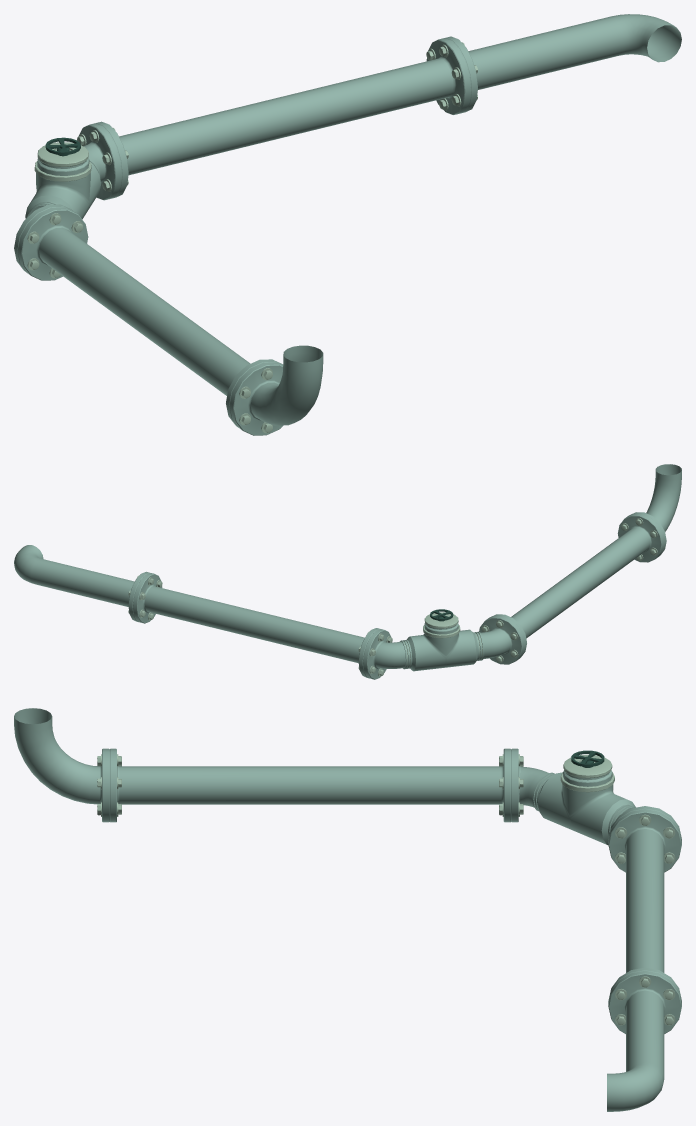
File: PipeComplexLarge_A3_11.fbx
3 renders of one model, top to bottom at view 1: azimuth 30°, elevation 25°; view 2: azimuth 150°, elevation 25°; view 3: azimuth 270°, elevation 25°, orthographic. The views are drawn at different scales.
Parts seen in each view (by area): view 1: PipeComplexLarge_A3_11.001; view 2: PipeComplexLarge_A3_11.001; view 3: PipeComplexLarge_A3_11.001.
Part boxes in pixels (x1=…): PipeComplexLarge_A3_11.001: x1=14, y1=14, x2=681, y2=435; PipeComplexLarge_A3_11.001: x1=14, y1=464, x2=681, y2=679; PipeComplexLarge_A3_11.001: x1=14, y1=708, x2=681, y2=1111.
Bounding box in the file's own units: 4.09 × 0.5923 × 3.49.
